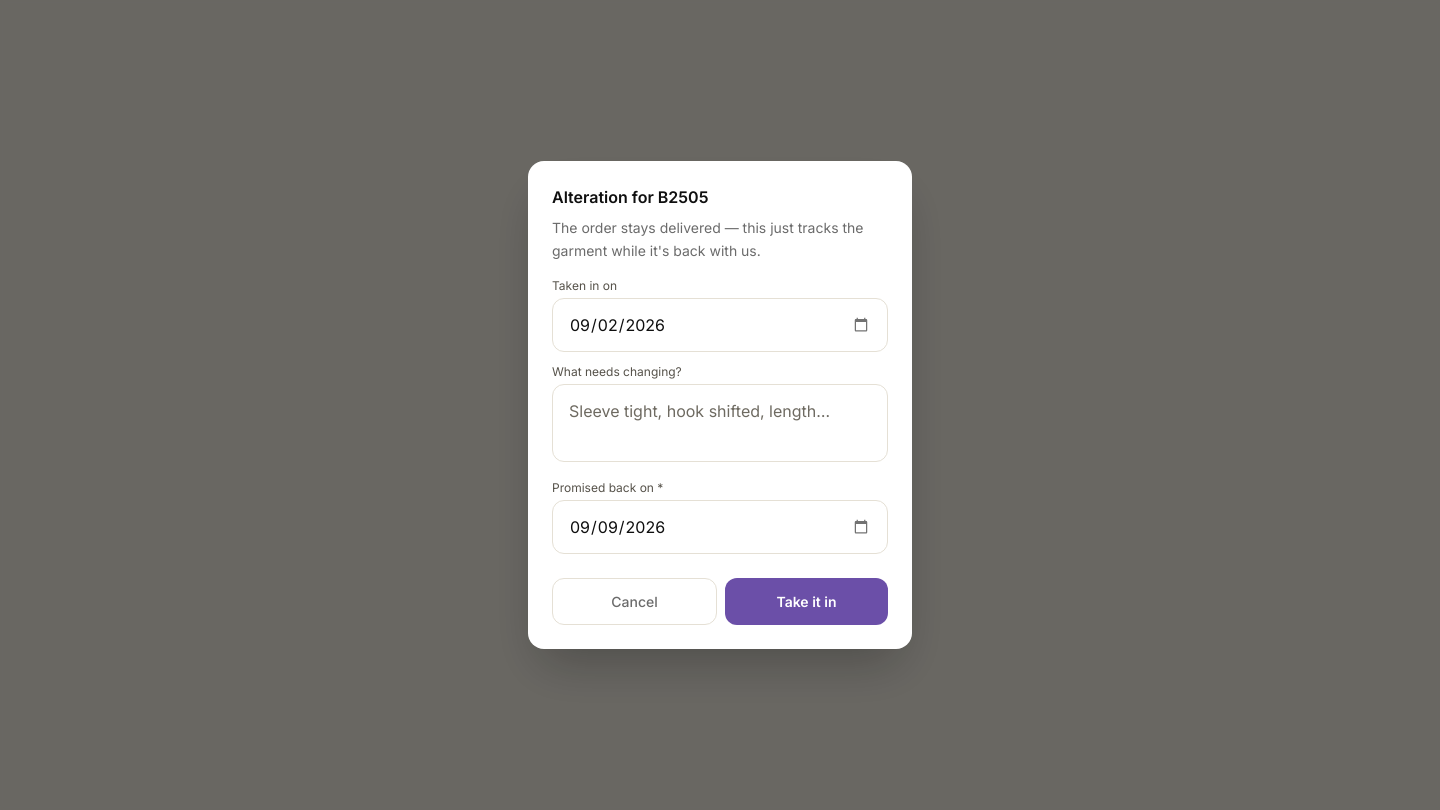
Scenario: StartAlterationDialog › won't take something in from the future
The width and height of the screenshot is (1440, 810).
Type "2099-01-01" into the date field labelled "Taken in on" at point(720, 325), box [552, 298, 888, 352]
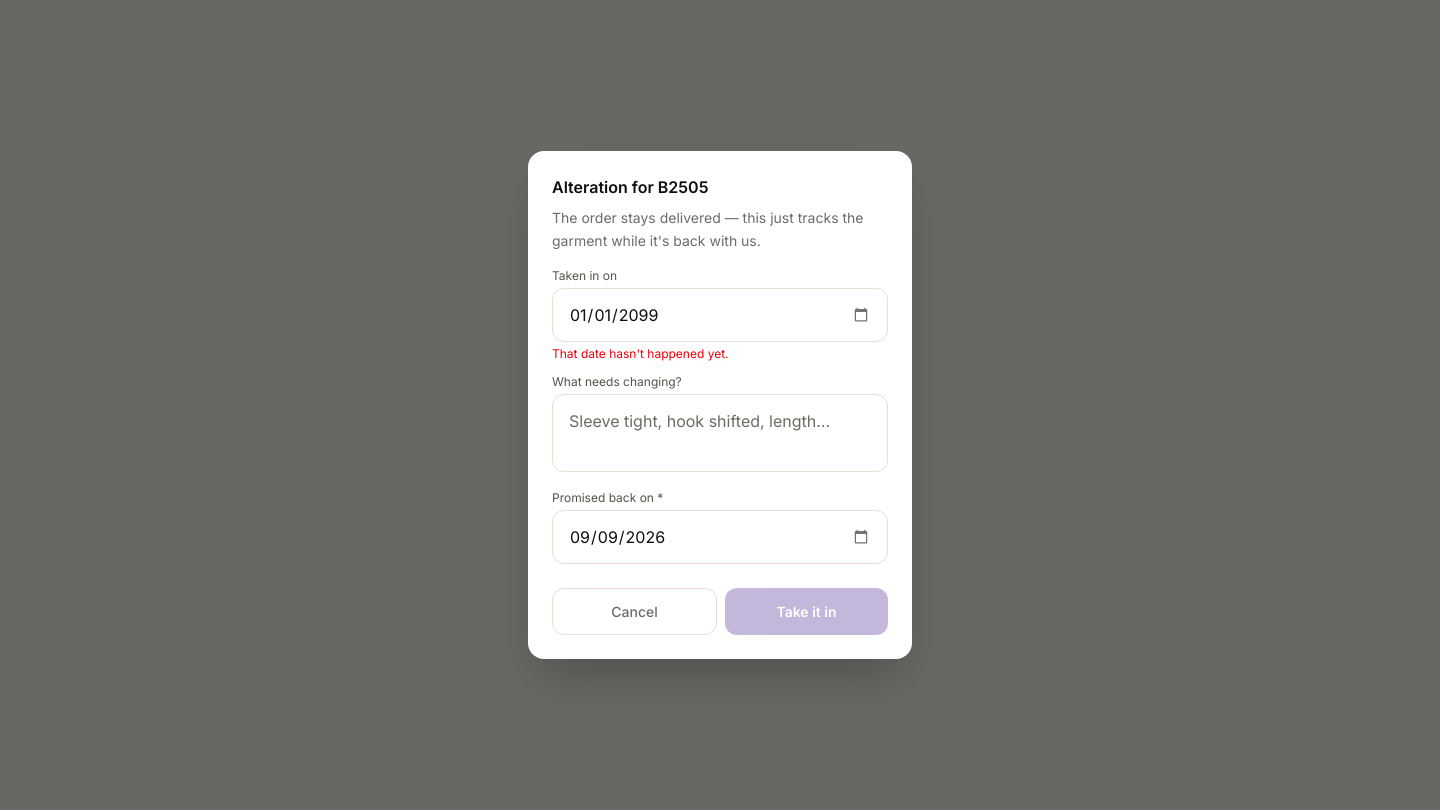
Now the button "Take it in" is disabled, box [725, 588, 888, 635]
